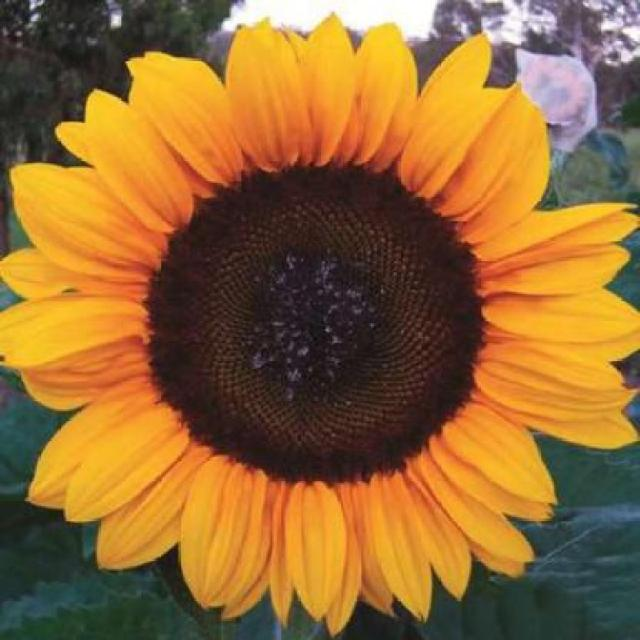sunflower: (10, 12, 639, 638)
